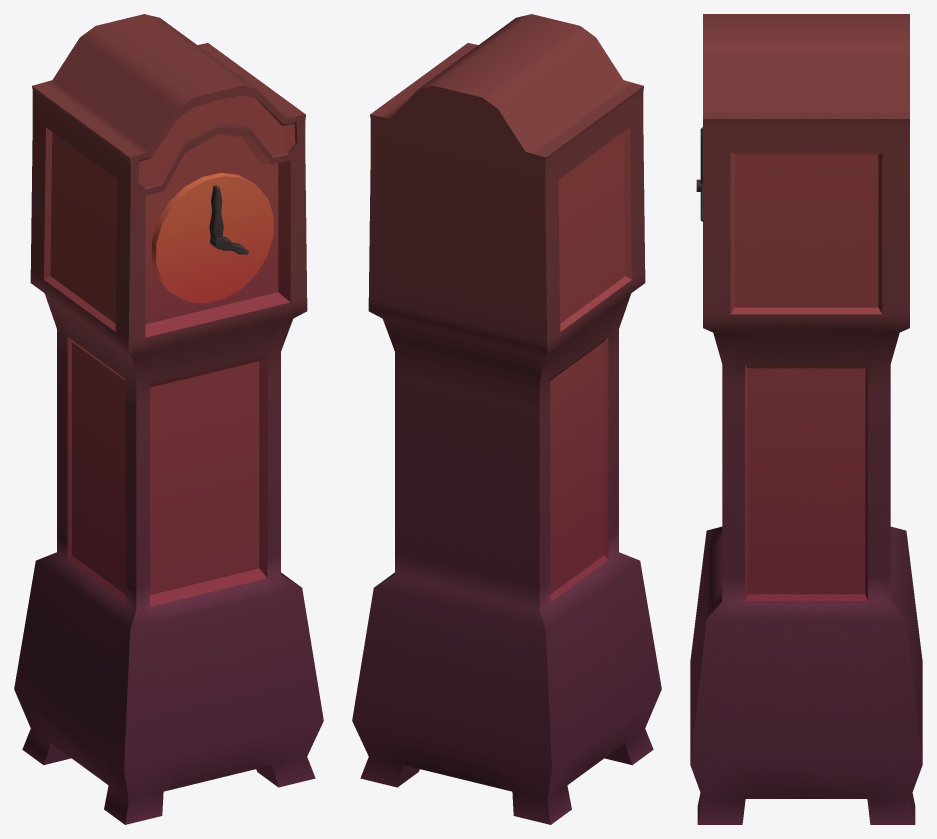
The model's file is tall_case_clock.fbx.
The picture shows the model from 3 angles, left to right: view 1: azimuth 30°, elevation 25°; view 2: azimuth 150°, elevation 25°; view 3: azimuth 270°, elevation 25°; orthographic projection. The views are drawn at different scales.
Visible parts, largest first — view 1: pCube7; view 2: pCube7; view 3: pCube7.
Part boxes in pixels (x1,y1,x2,y2): pCube7: (14,14,323,824); pCube7: (352,14,661,824); pCube7: (690,14,922,824).
Bounding box in the file's own units: 0.6097 × 2.06 × 0.58.
